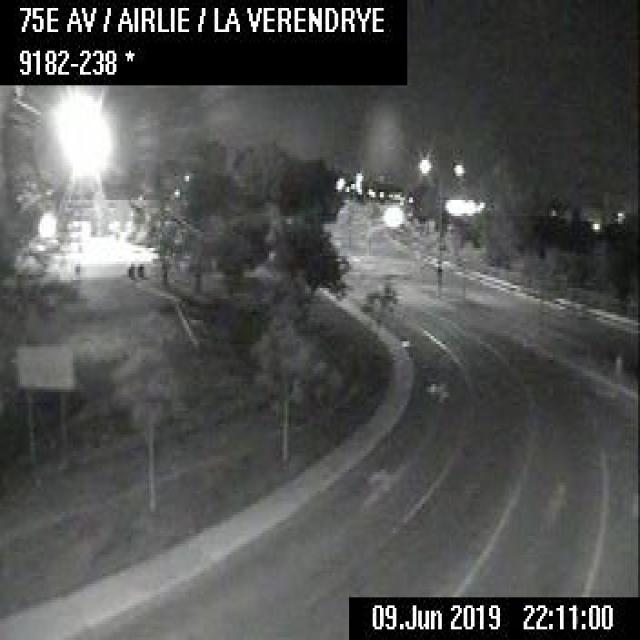vehicle: (384, 205, 404, 224)
